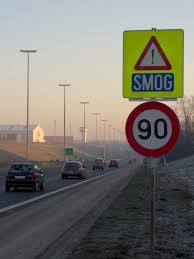Speed_limit_90km: (124, 102, 180, 158)
car: (4, 161, 47, 195), (59, 160, 88, 181)
